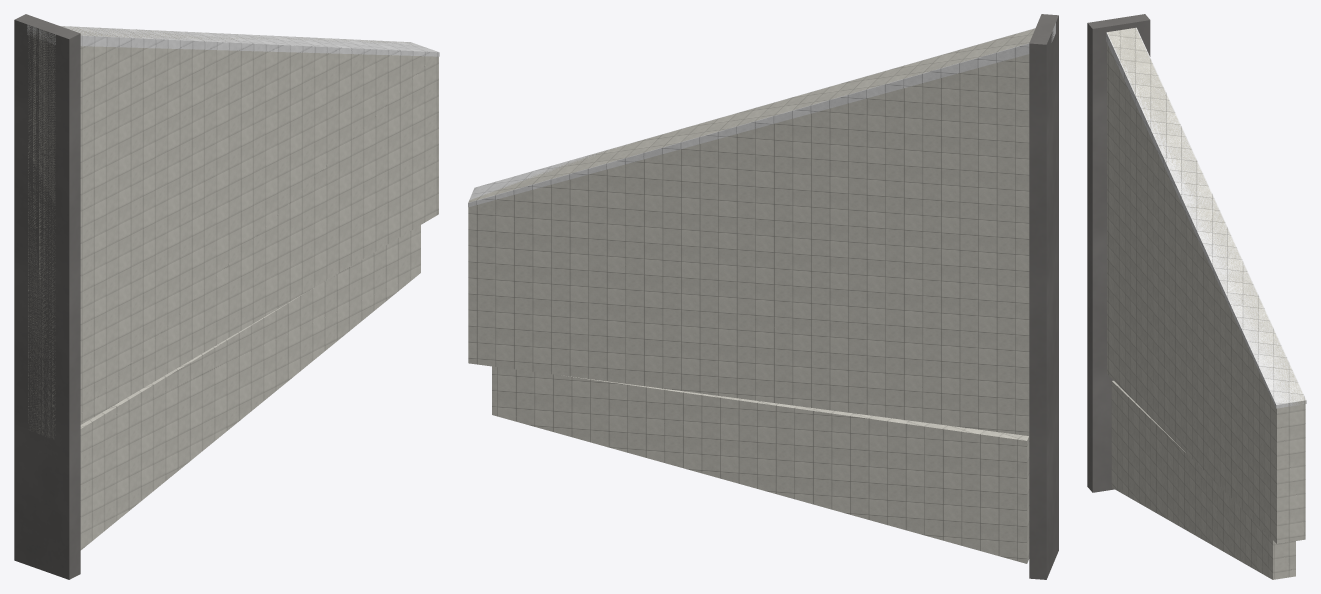
Rendered from aero05_tail_fin_l_canted.glb.
3 renders of one model, left to right at view 1: azimuth 30°, elevation 25°; view 2: azimuth 150°, elevation 25°; view 3: azimuth 270°, elevation 25°, orthographic. The views are drawn at different scales.
Parts seen in each view (by area): view 1: fin, root_flange, surface_rudder, fin_le; view 2: fin, surface_rudder, root_flange, fin_le; view 3: fin, surface_rudder, fin_le, root_flange.
Part boxes in pixels (bbox=[...]): fin: bbox=[28, 25, 438, 438]; root_flange: bbox=[14, 14, 80, 579]; surface_rudder: bbox=[80, 225, 420, 550]; fin_le: bbox=[27, 24, 439, 56]; fin: bbox=[468, 28, 1034, 435]; surface_rudder: bbox=[492, 366, 1029, 563]; root_flange: bbox=[1029, 14, 1058, 579]; fin_le: bbox=[468, 23, 1055, 207]; fin: bbox=[1107, 27, 1305, 543]; surface_rudder: bbox=[1111, 380, 1295, 579]; fin_le: bbox=[1106, 27, 1306, 408]; root_flange: bbox=[1087, 14, 1150, 492].
Size of the model in its own units: 4.85 by 5 by 2.14.
Materials: 3 (3 with a texture image).
